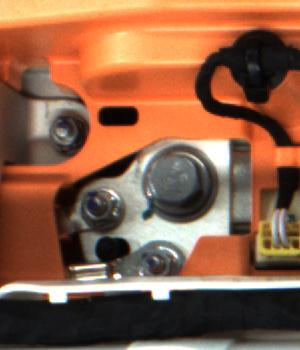nut_b: (135, 138, 228, 224)
screw_s: (70, 179, 122, 228), (46, 110, 77, 149), (140, 244, 175, 278)
